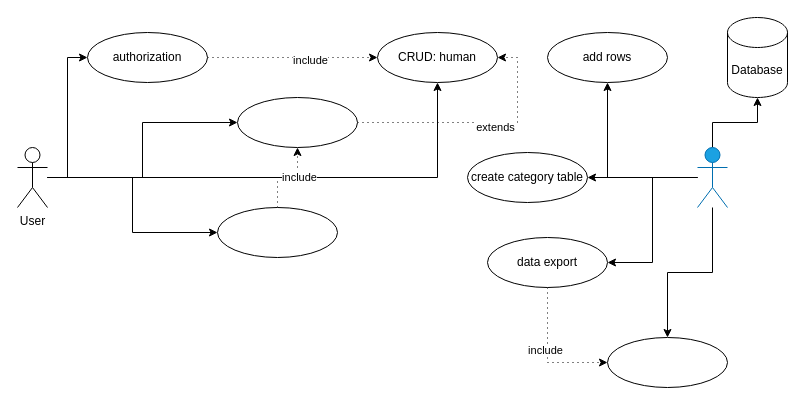
Some shapes in this 805 by 405 pixel diagram are drawn without their labels. The shapes that lost their labels are listed below. From the top down, each one's box as (x1, y1, x2, y2) in pixels, then its label:
(236, 96, 358, 148): data filtering
(696, 146, 728, 208): Admin
(216, 206, 338, 258): report generation
(606, 336, 728, 388): delete table
